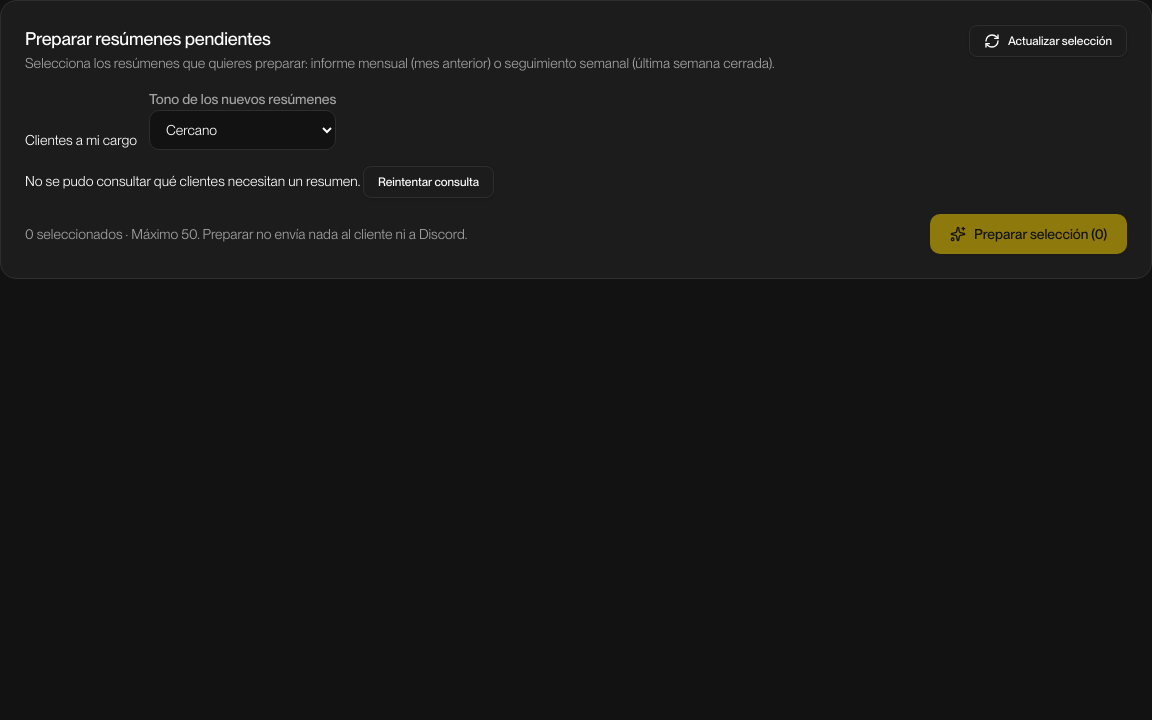
Scenario: preview failure remains visible and retry recovers
This screenshot has width=1152, height=720.
Click the button "Reintentar consulta": (428, 182) 363,166 -> 494,198
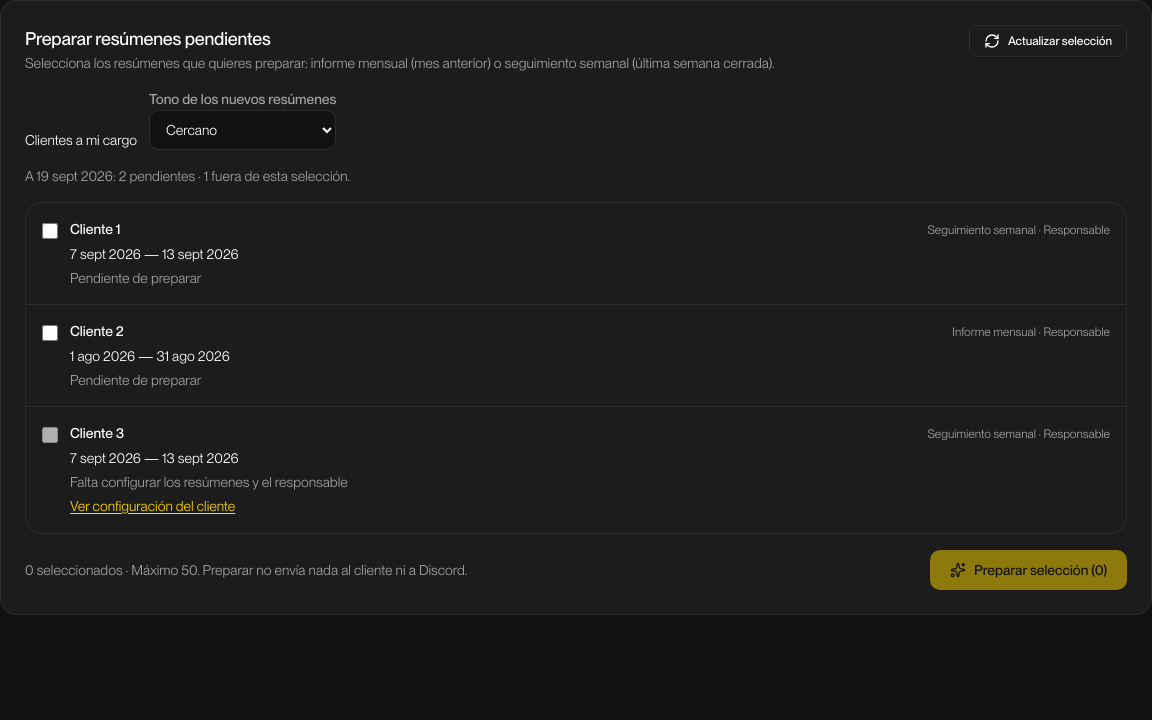
expect the checkbox named "Preparar Cliente 1 · Seguimiento semanal" is shown: met, box 42,223 -> 58,239
